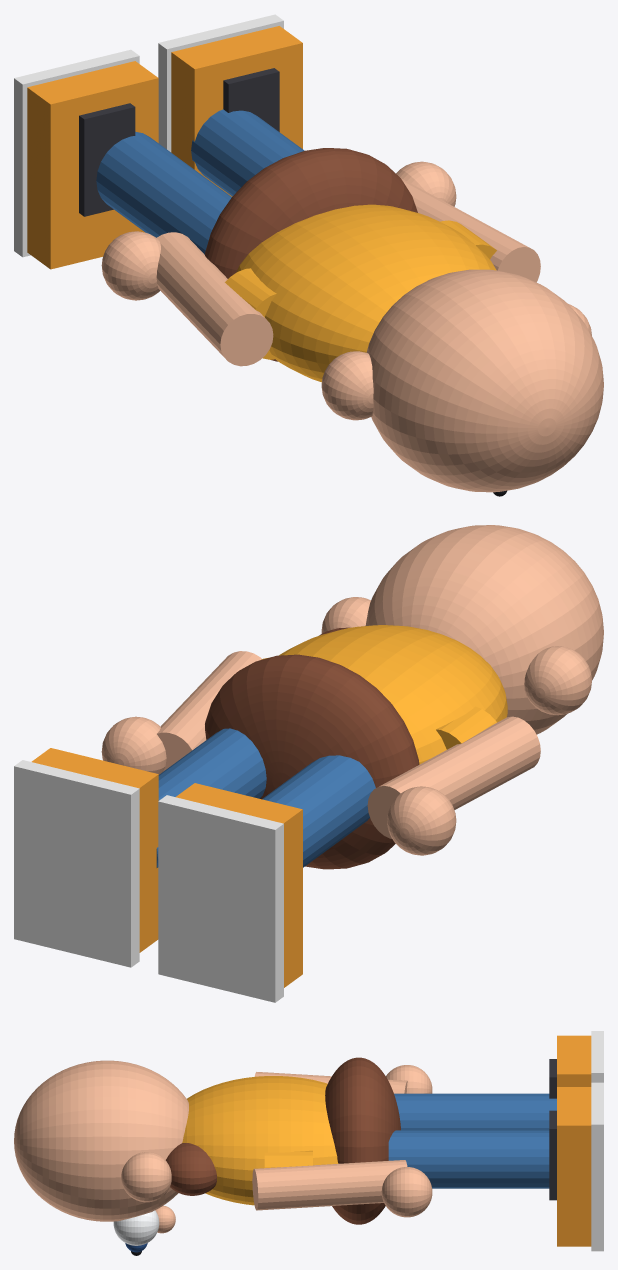
File: character.glb
3 renders of one model, top to bottom at view 1: azimuth 30°, elevation 25°; view 2: azimuth 150°, elevation 25°; view 3: azimuth 270°, elevation 25°, orthographic. The views are drawn at different scales.
Visible parts, largest first — view 1: Head, Torso, LeftShoe, HairCap, RightShoe, LeftJeans, LeftArm, RightJeans, LeftSole, LeftLace, LeftHand, RightArm (+5 smaller); view 2: Head, RightSole, LeftSole, HairCap, Torso, LeftArm, LeftJeans, RightShoe, LeftShoe, RightJeans, LeftHand, LeftEar (+4 smaller); view 3: Head, Torso, RightJeans, HairCap, LeftJeans, RightArm, RightShoe, RightSole, HairQuiff, RightHand, RightEar, LeftShoe (+8 smaller).
Part boxes in pixels (x1,y1,x2,y2): Head: [366, 269, 603, 492]; Torso: [236, 204, 496, 382]; LeftShoe: [27, 61, 158, 269]; HairCap: [205, 148, 417, 361]; RightShoe: [171, 26, 302, 196]; LeftJeans: [96, 131, 231, 254]; LeftArm: [156, 232, 273, 366]; RightJeans: [191, 109, 304, 196]; LeftSole: [14, 49, 139, 257]; LeftLace: [79, 103, 135, 216]; LeftHand: [101, 231, 160, 300]; RightArm: [401, 178, 540, 282]; Head: [365, 525, 603, 734]; RightSole: [14, 760, 139, 967]; LeftSole: [158, 795, 283, 1002]; HairCap: [205, 654, 419, 869]; Torso: [279, 625, 507, 764]; LeftArm: [367, 716, 540, 838]; LeftJeans: [262, 755, 375, 867]; RightShoe: [31, 748, 158, 952]; LeftShoe: [175, 783, 302, 987]; RightJeans: [156, 728, 266, 867]; LeftHand: [387, 786, 456, 855]; LeftEar: [524, 646, 591, 715]; Head: [14, 1060, 188, 1221]; Torso: [182, 1076, 338, 1205]; RightJeans: [388, 1130, 549, 1188]; HairCap: [325, 1057, 400, 1224]; LeftJeans: [394, 1093, 556, 1130]; RightArm: [252, 1160, 407, 1210]; RightShoe: [557, 1087, 591, 1246]; RightSole: [591, 1082, 603, 1251]; HairQuiff: [166, 1143, 216, 1195]; RightHand: [381, 1167, 432, 1217]; RightEar: [121, 1152, 171, 1202]; LeftShoe: [557, 1035, 591, 1086].
Size of the model in its own units: 2.3 by 1.53 by 4.64.
